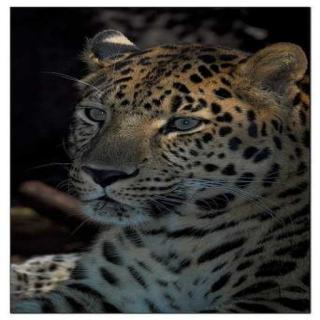Leopard: (27, 15, 310, 312)
